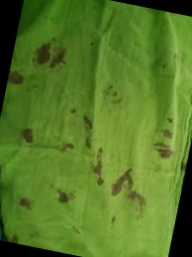blood: (109, 164, 152, 207), (33, 38, 68, 72), (89, 145, 108, 188), (152, 141, 175, 162), (55, 188, 75, 208), (20, 125, 37, 145), (8, 70, 25, 87), (19, 196, 34, 210), (80, 114, 94, 129), (84, 136, 92, 147)
